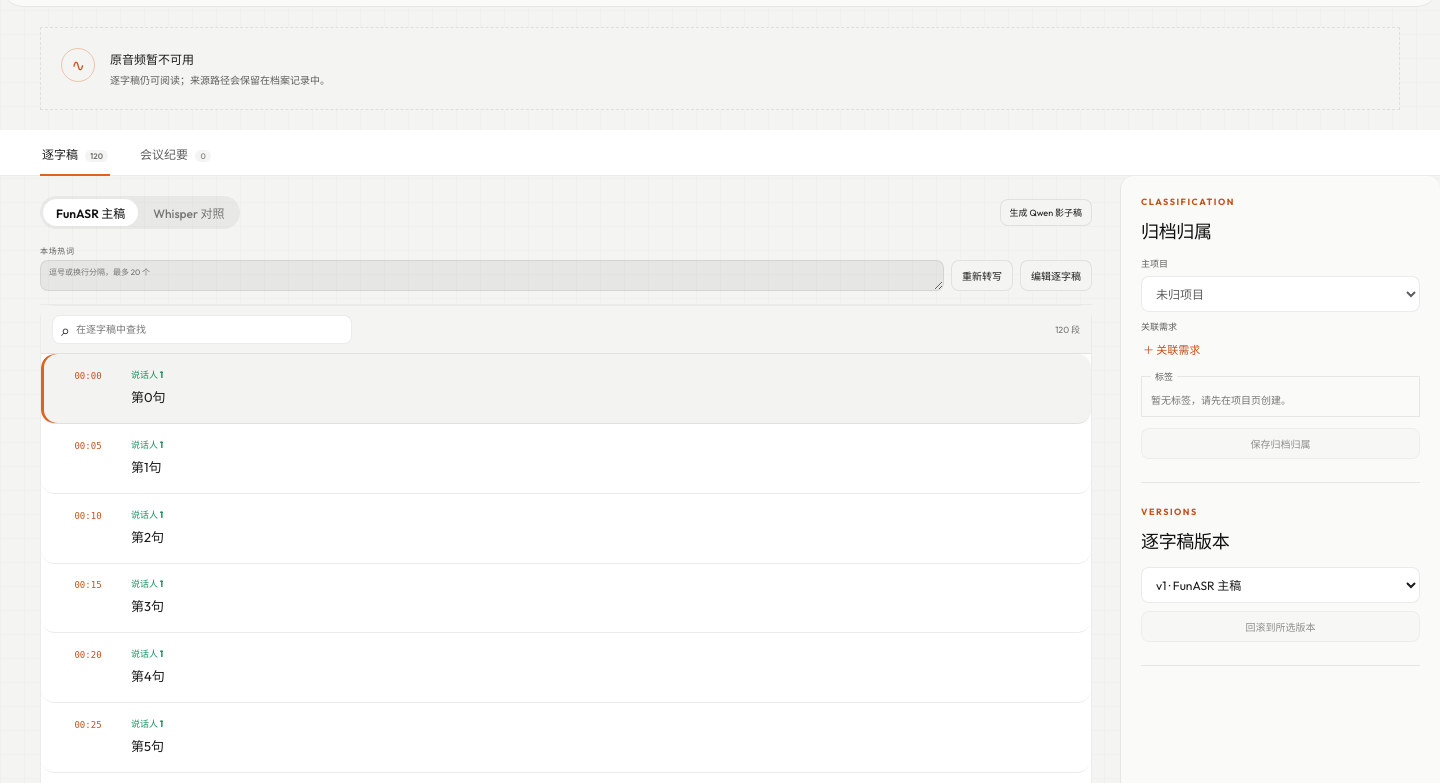
Scenario: MeetingDetailPage 逐字稿编辑的脏判断 › 保存之后没再动过不算改过；再敲一个字才又算改过（保存时打开时的稿被换成拷贝，内容相同）
(page scrolled)
Step 1. Click the button "编辑逐字稿" → {"x": 1056, "y": 276}, box [1020,260,1092,291]
(page scrolled)
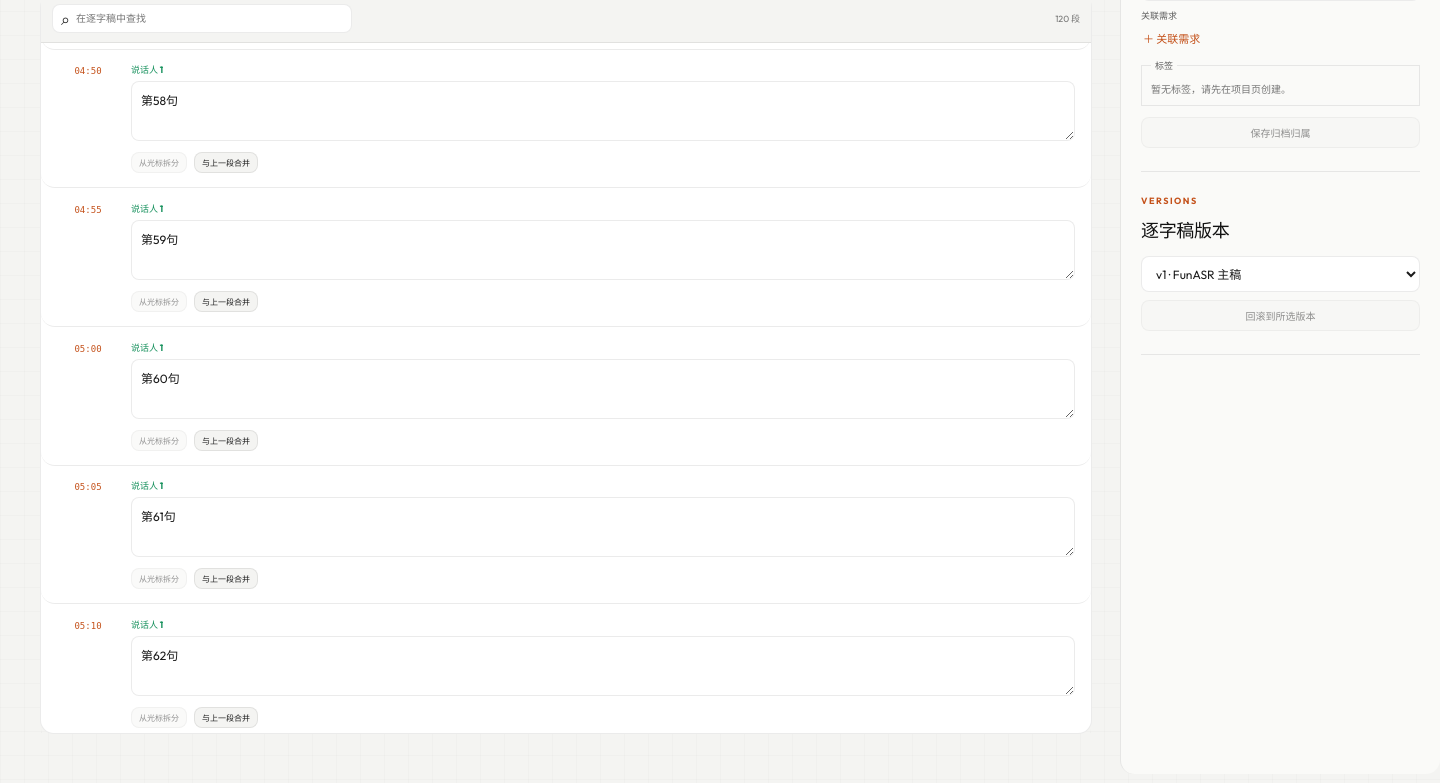
Step 2. Type "字" into the text box named "05:00 逐字稿" → {"x": 603, "y": 388}, box [131,359,1075,418]
(page scrolled)
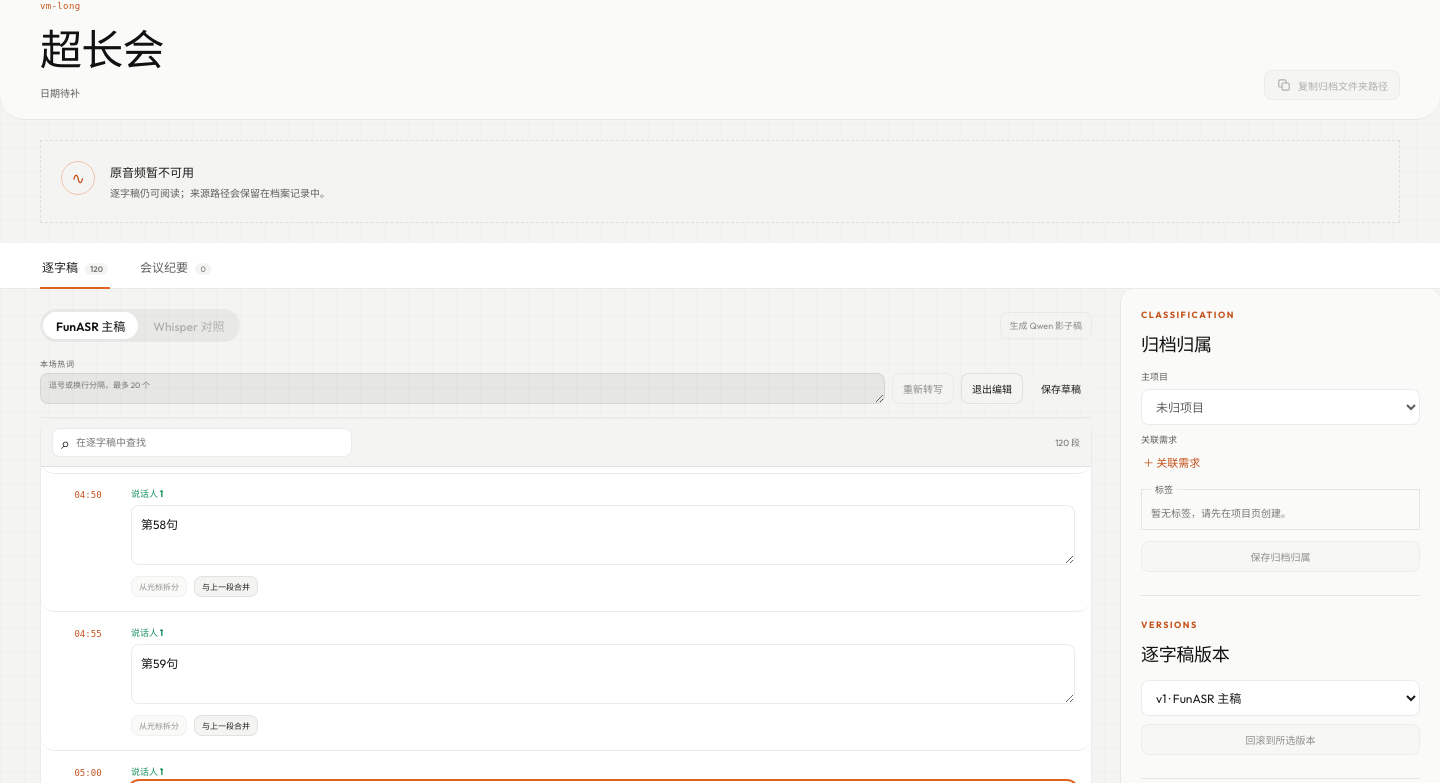
Step 3. Click the button "保存草稿" → {"x": 1061, "y": 388}, box [1030,373,1092,404]
(page scrolled)
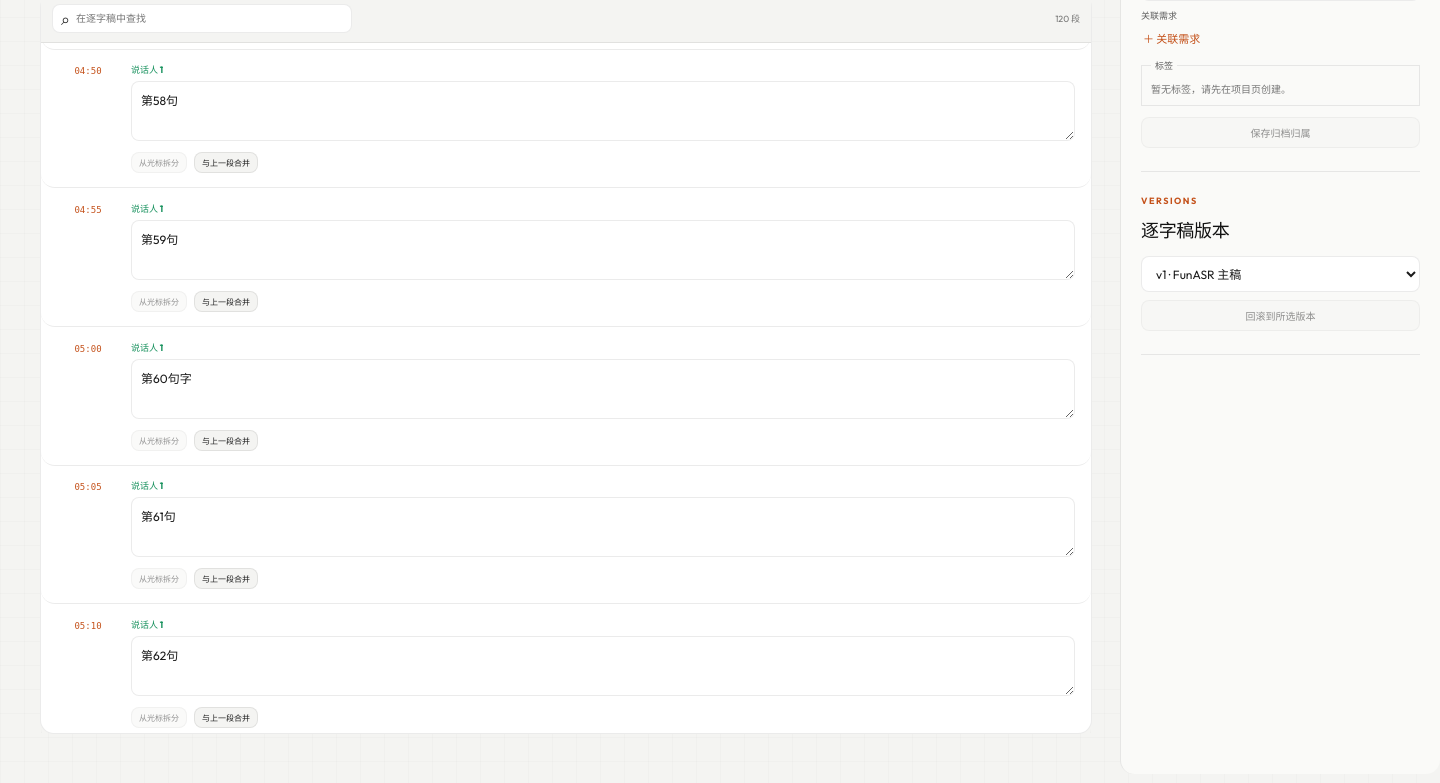
Step 4. Type "又" into the text box named "05:00 逐字稿" → {"x": 603, "y": 388}, box [131,359,1075,418]
(page scrolled)
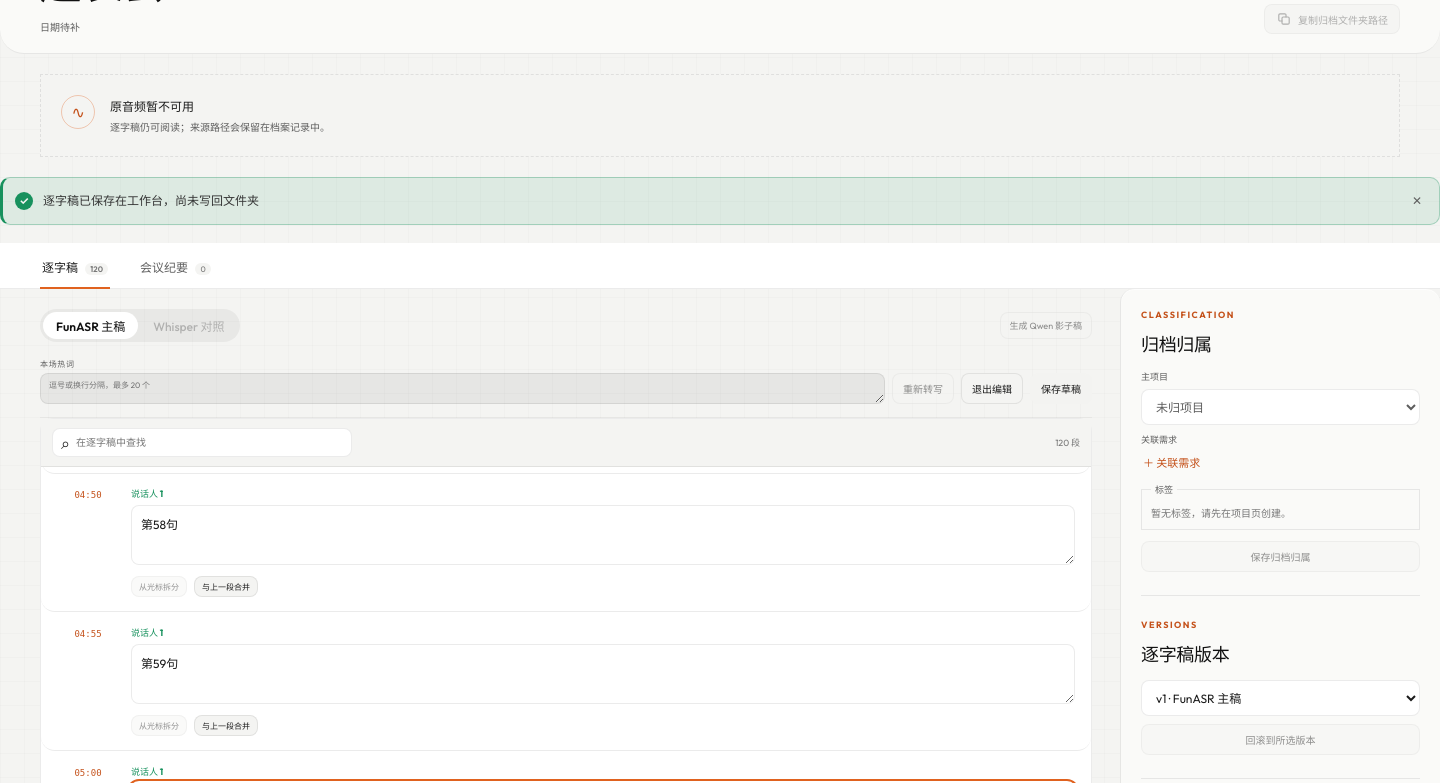
Check: the button "保存草稿" is enabled, box [1030,373,1092,404]
